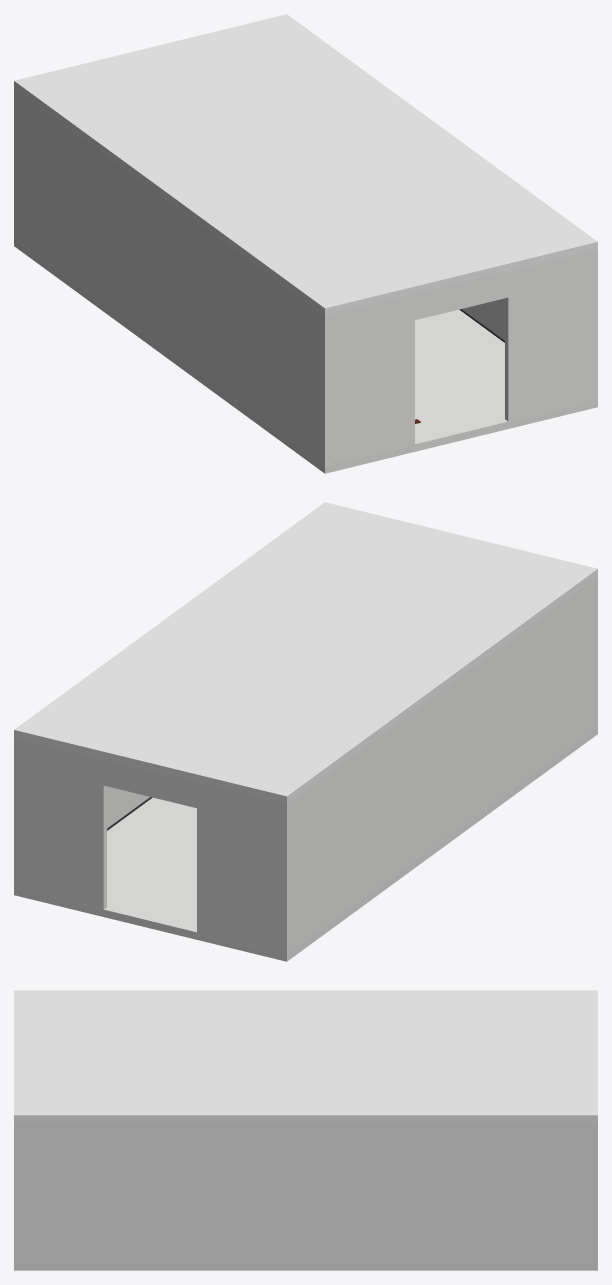
File: room_study_s2.glb
3 views of the same model, one above another, from view 1: azimuth 30°, elevation 25°; view 2: azimuth 150°, elevation 25°; view 3: azimuth 270°, elevation 25° (orthographic). The views are drawn at different scales.
Parts seen in each view (by area): view 1: room_study_s2_static; view 2: room_study_s2_static; view 3: room_study_s2_static.
Boxes of the visible parts, <box> form: room_study_s2_static: <box>14,14,597,473</box>; room_study_s2_static: <box>14,502,597,961</box>; room_study_s2_static: <box>14,990,597,1270</box>.
Bounding box in the file's own units: 7.6 × 4.4 × 15.
15 materials, 3 textured.
